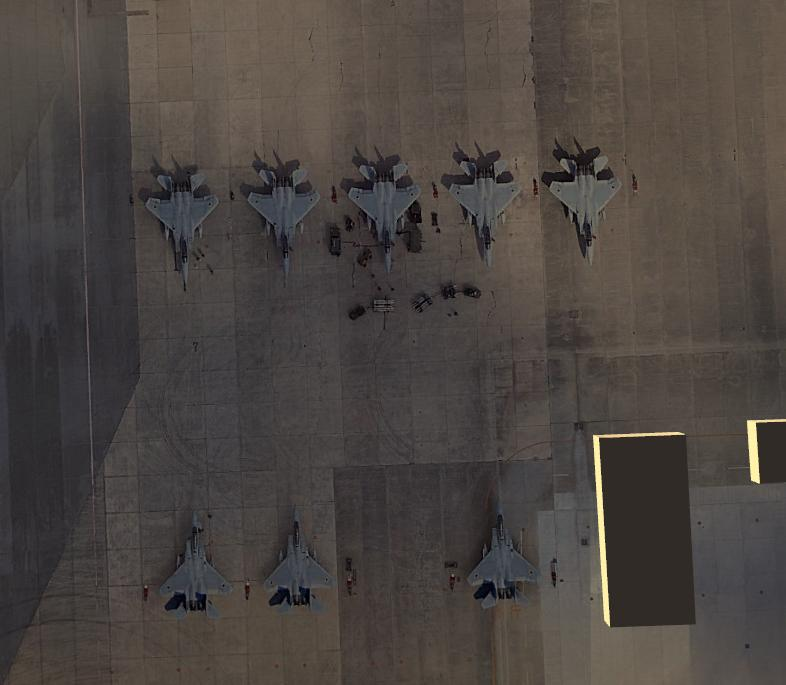A13: (142, 164, 220, 296), (246, 157, 324, 289), (345, 150, 423, 282), (446, 143, 524, 275), (544, 139, 622, 271), (151, 498, 230, 623), (255, 498, 336, 616), (464, 498, 545, 616)
